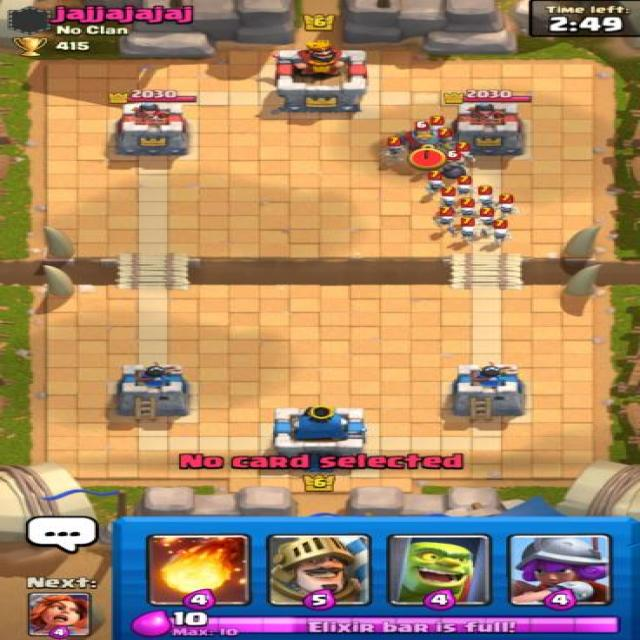Enemy-Bomber: (431, 148, 475, 182)
Enemy-Knight: (395, 119, 454, 157)
Enemy-Skeleton: (428, 126, 467, 155), (375, 134, 411, 162), (484, 218, 516, 245), (421, 169, 452, 196), (450, 216, 482, 242), (444, 140, 479, 163), (494, 192, 522, 218), (431, 206, 459, 231), (435, 186, 461, 211), (472, 185, 498, 209), (454, 197, 478, 221), (475, 206, 499, 229), (451, 175, 476, 197), (426, 119, 449, 141)
